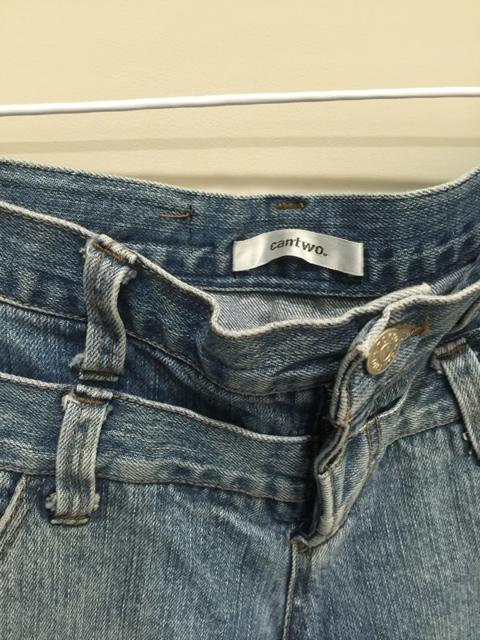Pants_Leggings: (1, 158, 480, 637)
